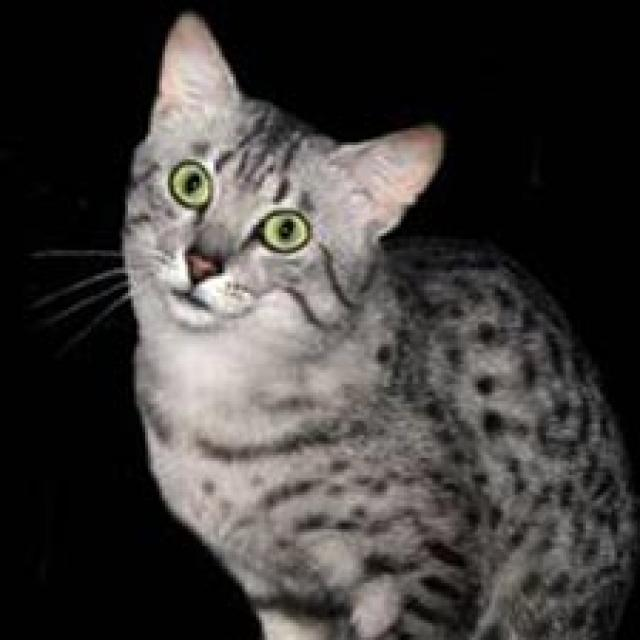Egyptian_Mau: (125, 9, 438, 324)
